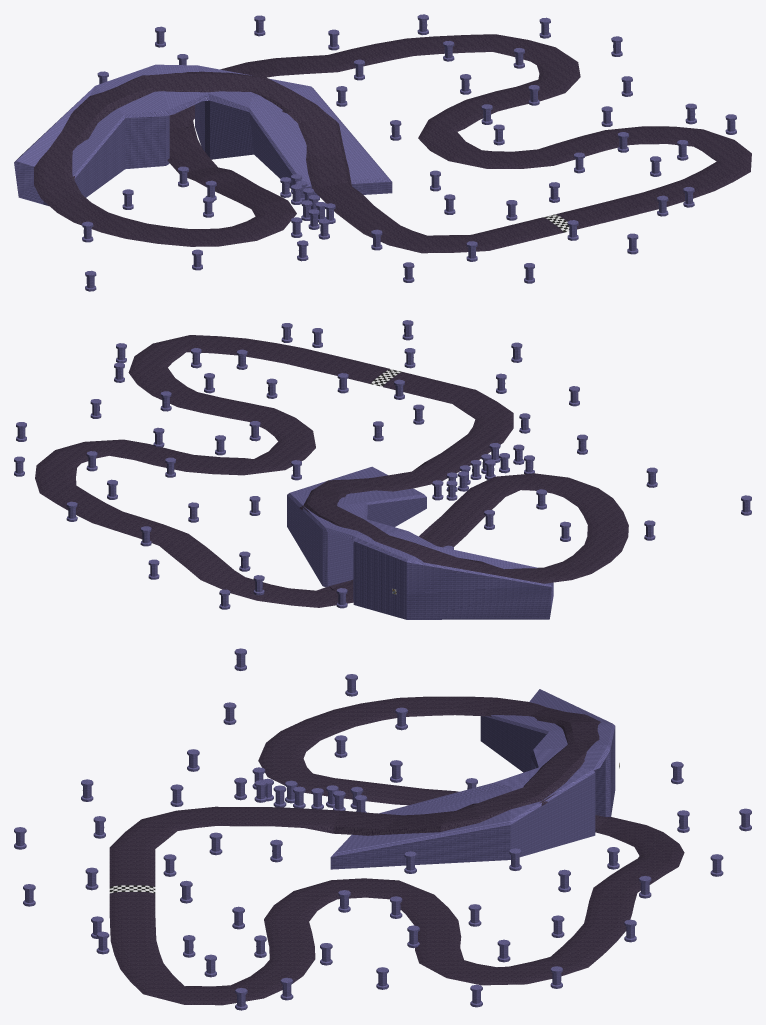
Rendered from yargtrack main.glb.
3 renders of one model, top to bottom at view 1: azimuth 30°, elevation 25°; view 2: azimuth 150°, elevation 25°; view 3: azimuth 270°, elevation 25°, orthographic. The views are drawn at different scales.
Parts seen in each view (by area): view 1: Cube; view 2: Cube; view 3: Cube.
Part boxes in pixels (x1=…): Cube: x1=14, y1=14, x2=751, y2=291; Cube: x1=14, y1=320, x2=751, y2=619; Cube: x1=14, y1=648, x2=751, y2=1010.
Size of the model in its own units: 97.21 by 10.72 by 87.96.
Materials: 4 (4 with a texture image).
